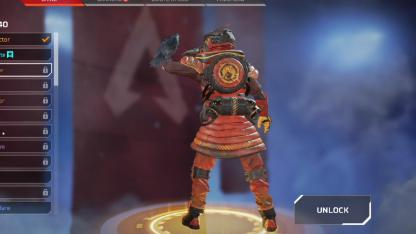Target: (192, 27, 268, 205)
